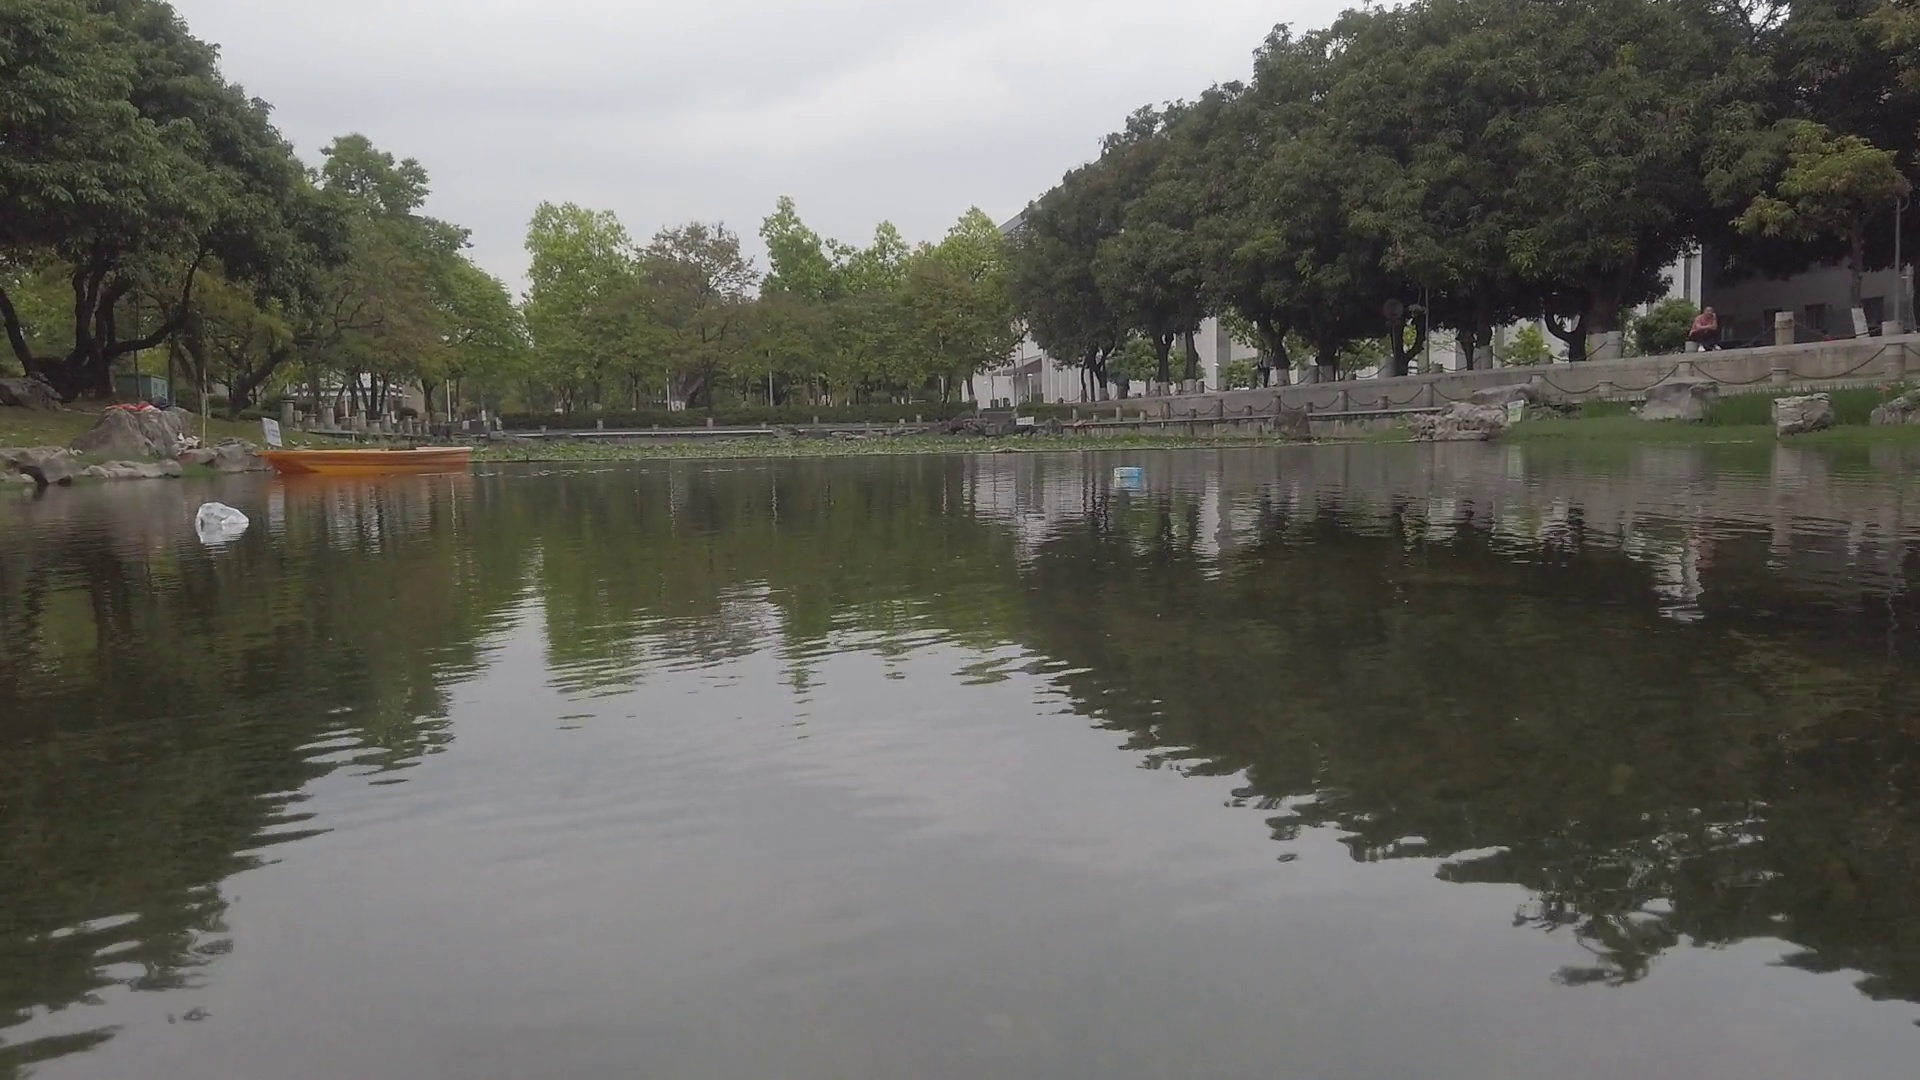carton: (1113, 465, 1142, 477)
plastic: (193, 502, 249, 533)
